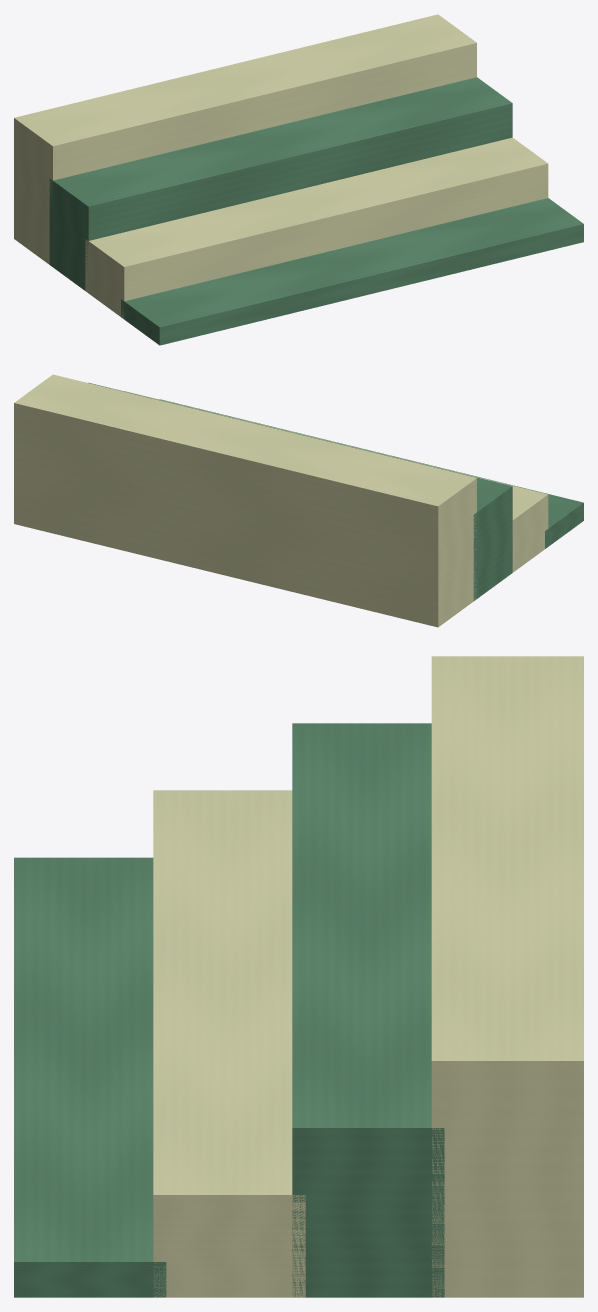
The model's file is atlas100-s001-a10.lod2.glb.
3 views of the same model, one above another, from view 1: azimuth 30°, elevation 25°; view 2: azimuth 150°, elevation 25°; view 3: azimuth 270°, elevation 25° (orthographic). The views are drawn at different scales.
Visible parts, largest first — view 1: atlas100-s001-a10:part-003, atlas100-s001-a10:part-002, atlas100-s001-a10:part-001, atlas100-s001-a10:part-000; view 2: atlas100-s001-a10:part-003, atlas100-s001-a10:part-002, atlas100-s001-a10:part-001, atlas100-s001-a10:part-000; view 3: atlas100-s001-a10:part-003, atlas100-s001-a10:part-002, atlas100-s001-a10:part-001, atlas100-s001-a10:part-000.
Part boxes in pixels (left/top/right/bottom): atlas100-s001-a10:part-003: left=14, top=14, right=476, bottom=264; atlas100-s001-a10:part-002: left=49, top=77, right=512, bottom=290; atlas100-s001-a10:part-001: left=85, top=137, right=548, bottom=319; atlas100-s001-a10:part-000: left=121, top=198, right=583, bottom=345; atlas100-s001-a10:part-003: left=14, top=374, right=476, bottom=627; atlas100-s001-a10:part-002: left=88, top=382, right=512, bottom=600; atlas100-s001-a10:part-001: left=124, top=391, right=548, bottom=572; atlas100-s001-a10:part-000: left=159, top=399, right=583, bottom=548; atlas100-s001-a10:part-003: left=431, top=656, right=583, bottom=1297; atlas100-s001-a10:part-002: left=292, top=723, right=444, bottom=1297; atlas100-s001-a10:part-001: left=153, top=790, right=305, bottom=1297; atlas100-s001-a10:part-000: left=14, top=857, right=166, bottom=1297.
Size of the model in its own units: 2.2 by 0.6 by 1.31.
Materials: 2 (2 with a texture image).
